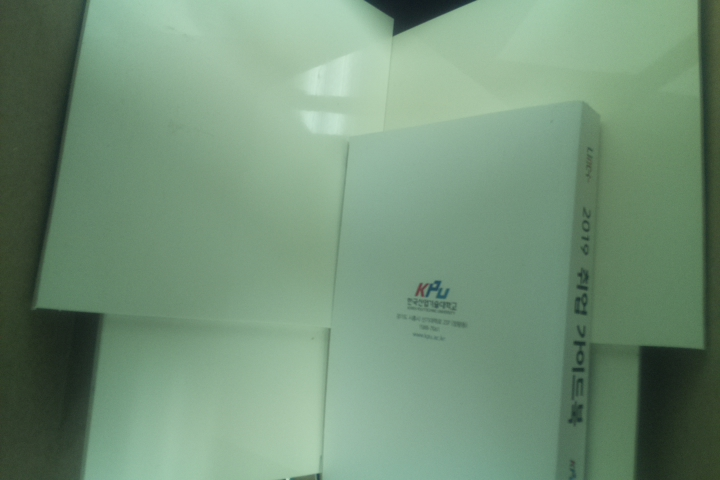book: (317, 99, 611, 480)
